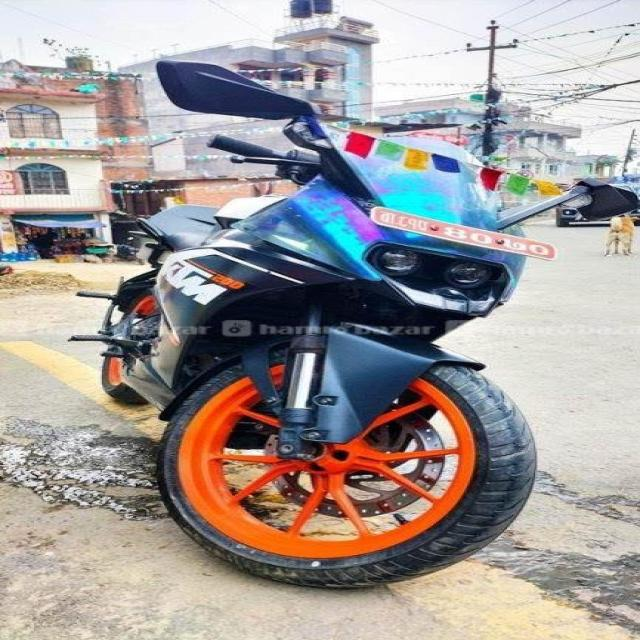License-plate: (369, 208, 562, 262)
